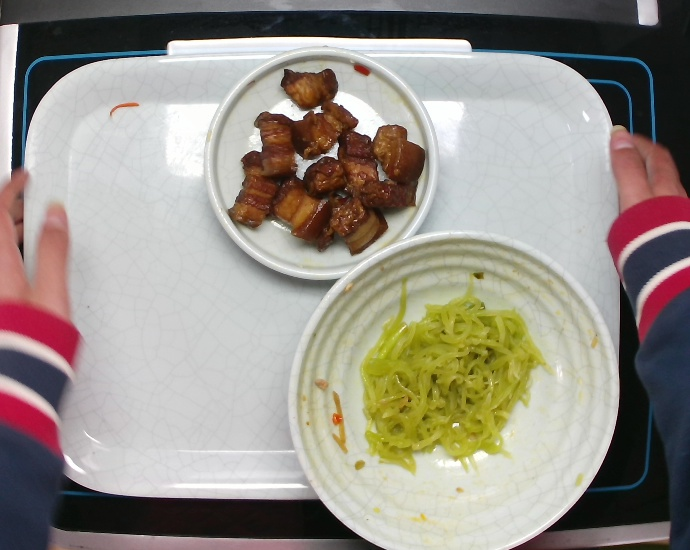JYsf-Da_Tang_Wan: (285, 232, 621, 550)
JYsf-Xiao_Yuan_Pan: (205, 48, 442, 285)
